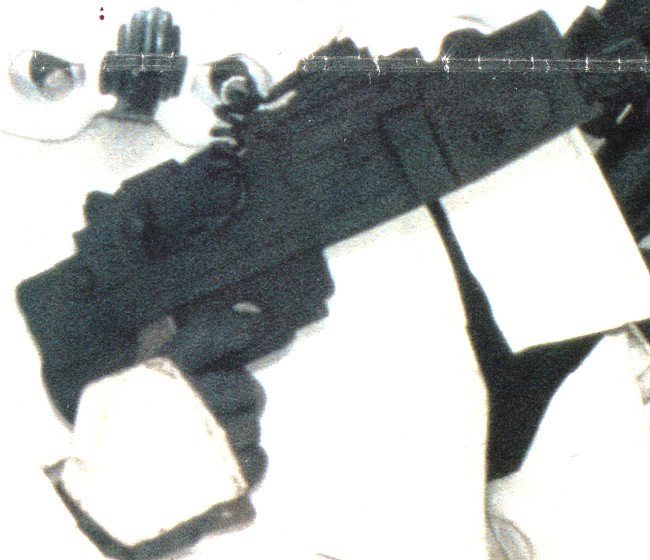rifle: (25, 48, 623, 524)
